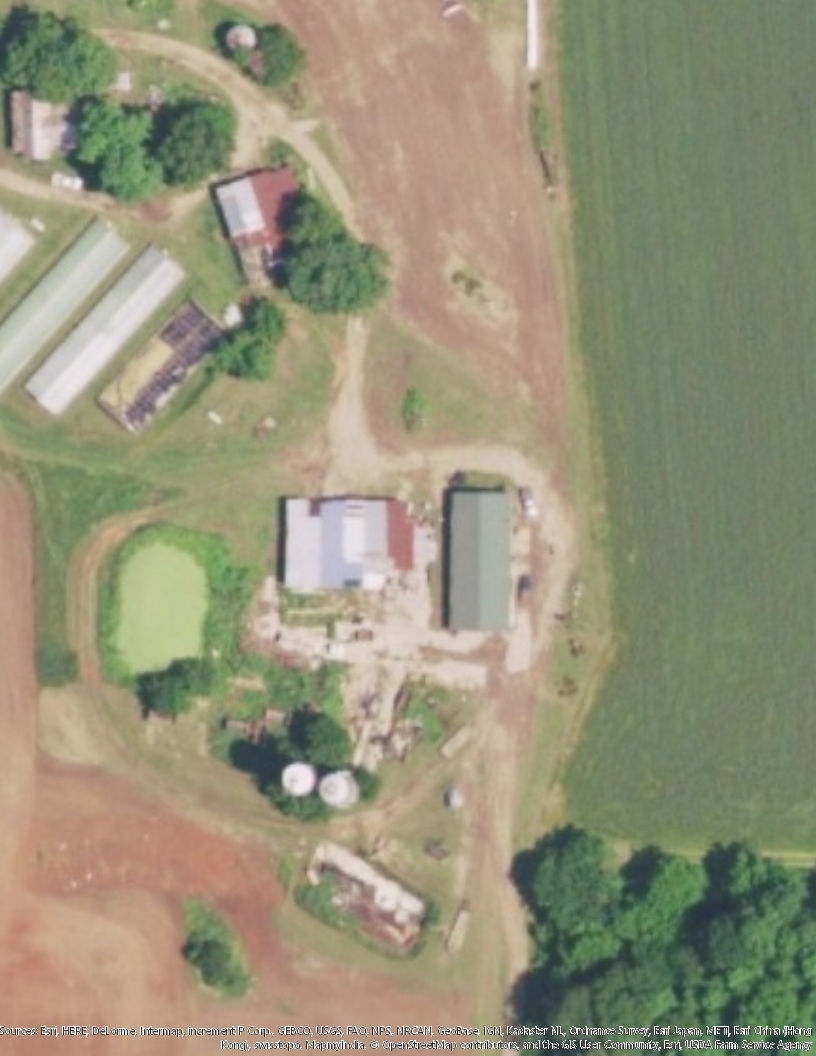cafo: (22, 246, 193, 420), (1, 214, 136, 395), (440, 478, 532, 641)
